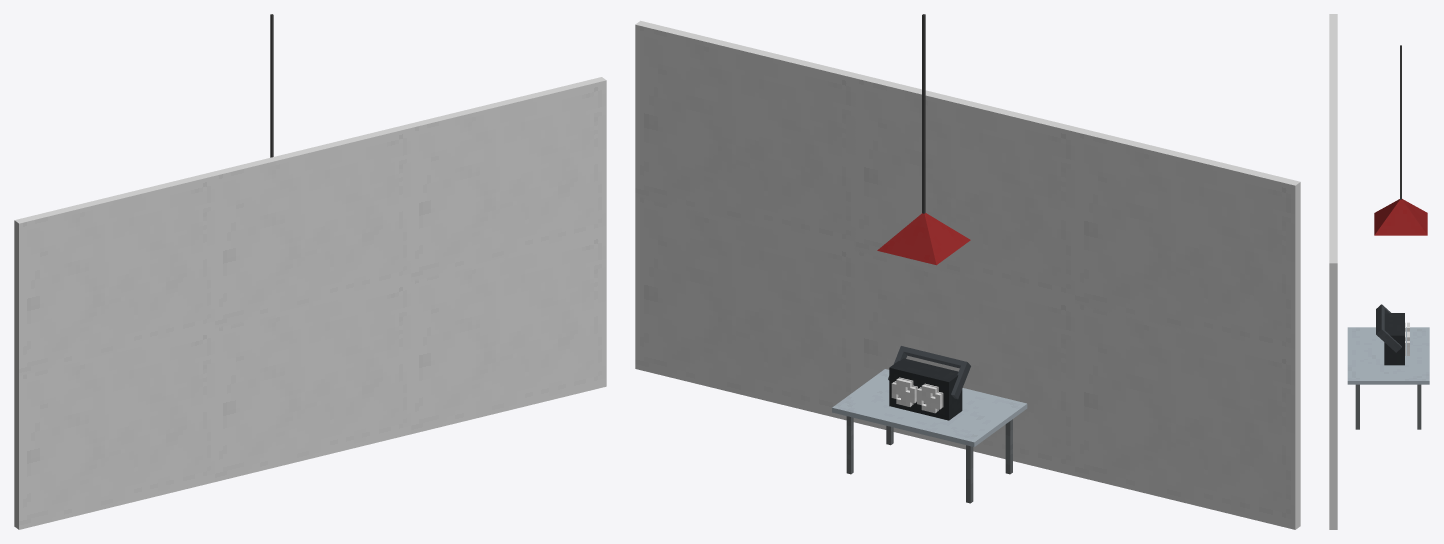
3 renders of one model, left to right at view 1: azimuth 30°, elevation 25°; view 2: azimuth 150°, elevation 25°; view 3: azimuth 270°, elevation 25°, orthographic. The views are drawn at different scales.
Visible parts, largest first — view 1: cube.016, cube.017, cube.018, cube.015, cube.014, cube.013; view 2: cube.016, cube.018, cube.015, cube.013, cube.017, cube.014, cube.062, pyramid, cube.066, cube.063, cube.012; view 3: cube.062, cube.018, pyramid, cube.013, cube.066, cube.017, cube.016, cube.063, cube.012.
Part boxes in pixels (<box>): cube.016: <box>14,172,214,375</box>; cube.017: <box>211,124,411,329</box>; cube.018: <box>406,77,606,281</box>; cube.015: <box>14,328,215,529</box>; cube.014: <box>215,281,411,481</box>; cube.013: <box>411,233,606,434</box>; cube.016: <box>1075,128,1300,358</box>; cube.018: <box>635,20,859,249</box>; cube.015: <box>1075,303,1300,529</box>; cube.013: <box>635,196,855,422</box>; cube.017: <box>854,74,1079,304</box>; cube.014: <box>854,250,1074,475</box>; cube.062: <box>832,369,1027,503</box>; pyramid: <box>877,213,970,265</box>; cube.066: <box>889,358,962,420</box>; cube.063: <box>888,346,970,399</box>; cube.012: <box>922,14,925,213</box>; cube.062: <box>1347,327,1429,429</box>; cube.018: <box>1329,180,1337,396</box>; pyramid: <box>1374,199,1427,235</box>; cube.013: <box>1329,396,1337,529</box>; cube.066: <box>1384,313,1404,365</box>; cube.017: <box>1329,97,1337,180</box>; cube.016: <box>1329,14,1337,97</box>; cube.063: <box>1376,304,1401,352</box>; cube.012: <box>1400,45,1401,199</box>.
Bounding box in the file's own units: 8.99 × 6.04 × 1.53.
10 materials, 10 textured.
